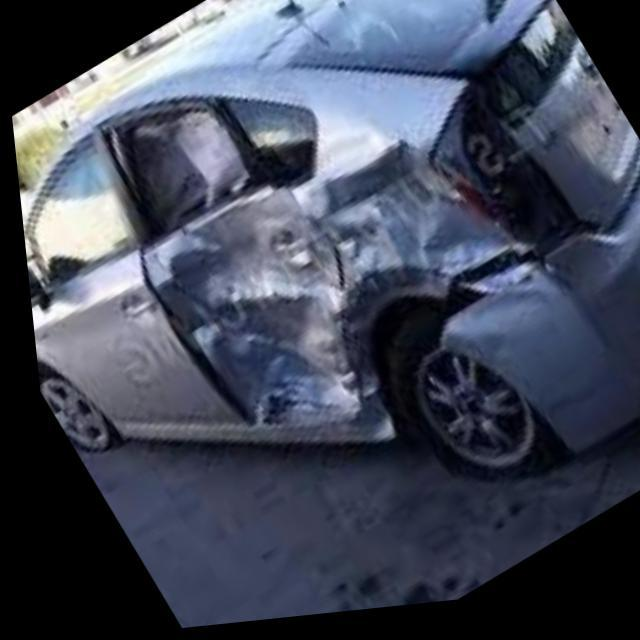dent: (118, 134, 578, 461)
